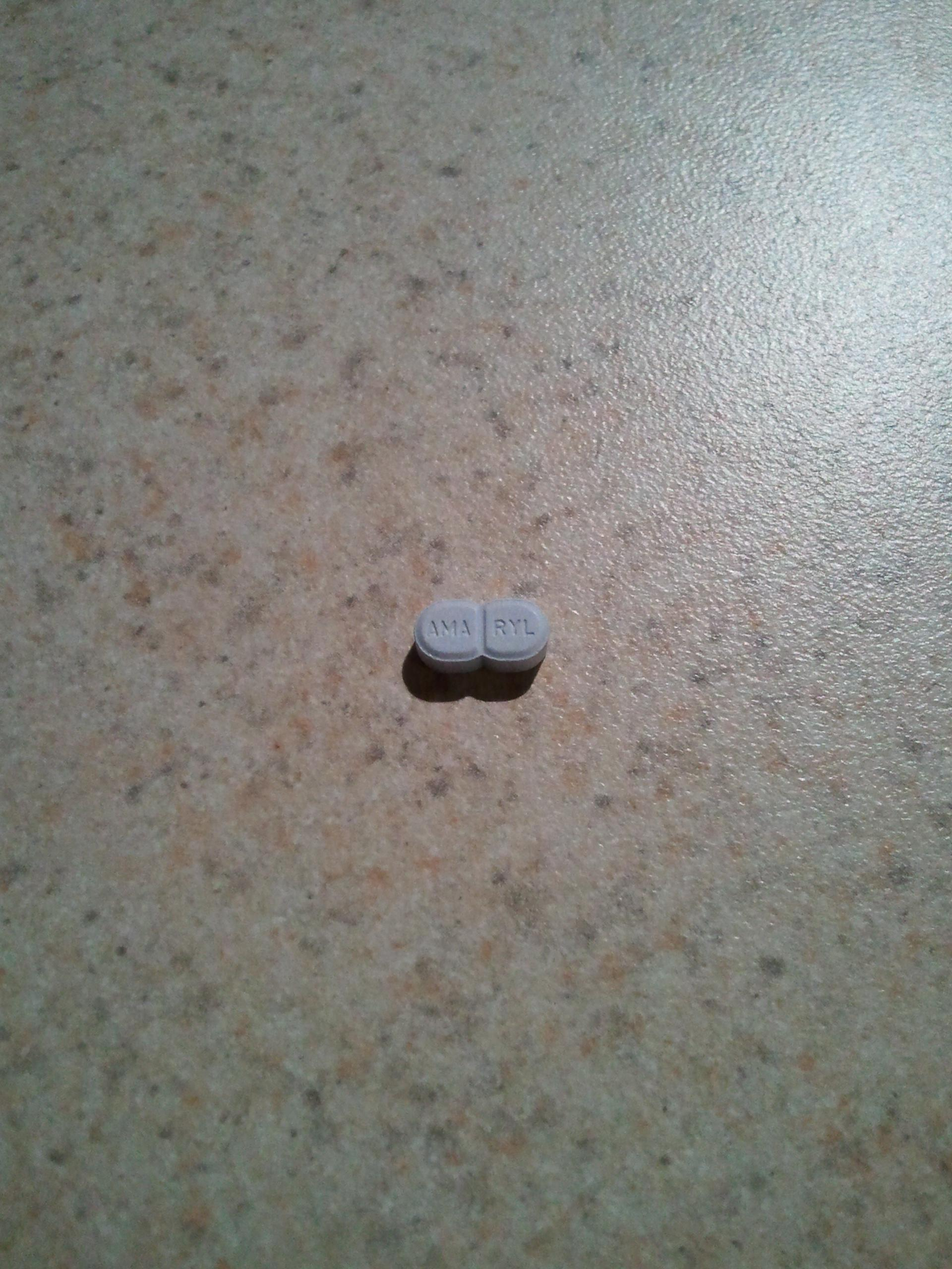Pill: (399, 585, 563, 680)
